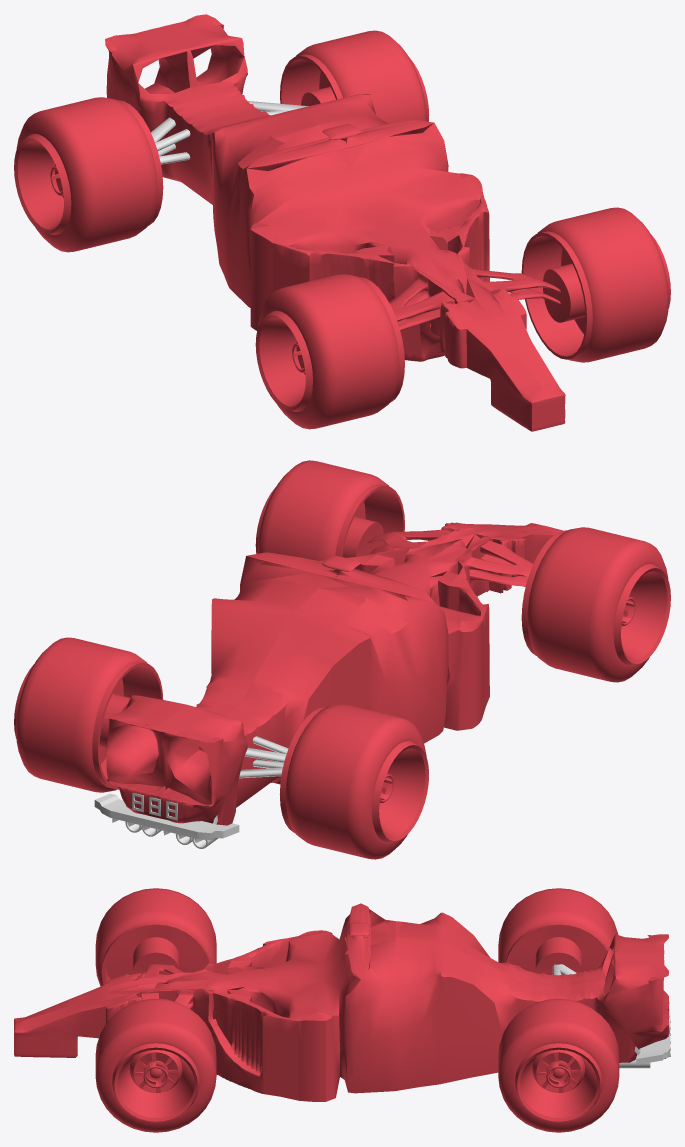
Rendered from car.fbx.
3 renders of one model, top to bottom at view 1: azimuth 30°, elevation 25°; view 2: azimuth 150°, elevation 25°; view 3: azimuth 270°, elevation 25°, orthographic. The views are drawn at different scales.
Parts seen in each view (by area): view 1: Plane, Plane.001, Plane.006, Plane.002, Plane.003, Plane.004; view 2: Plane, Plane.006, Plane.001, Plane.003, Plane.002, Plane.007, Plane.004; view 3: Plane, Plane.003, Plane.002, Plane.006, Plane.001, Plane.007.
Part boxes in pixels (x1=…): Plane: x1=105, y1=14, x2=565, y2=431; Plane.001: x1=14, y1=97, x2=163, y2=252; Plane.006: x1=255, y1=274, x2=404, y2=429; Plane.002: x1=521, y1=207, x2=670, y2=362; Plane.003: x1=280, y1=30, x2=429, y2=123; Plane.004: x1=151, y1=117, x2=190, y2=164; Plane: x1=104, y1=522, x2=563, y2=825; Plane.006: x1=521, y1=527, x2=670, y2=682; Plane.001: x1=279, y1=704, x2=428, y2=859; Plane.003: x1=14, y1=637, x2=163, y2=792; Plane.002: x1=255, y1=460, x2=404, y2=560; Plane.007: x1=94, y1=793, x2=239, y2=842; Plane.004: x1=239, y1=736, x2=288, y2=778; Plane: x1=14, y1=903, x2=668, y2=1101; Plane.003: x1=498, y1=998, x2=619, y2=1132; Plane.002: x1=95, y1=998, x2=216, y2=1132; Plane.006: x1=95, y1=888, x2=216, y2=986; Plane.001: x1=498, y1=888, x2=618, y2=974; Plane.007: x1=634, y1=1012, x2=670, y2=1064.
Size of the model in its own units: 706 by 306 by 1320.
